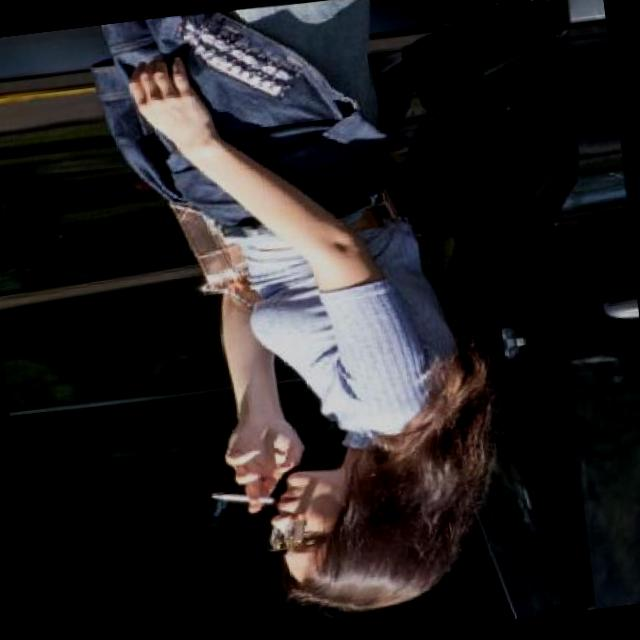smoke: (210, 480, 277, 510)
